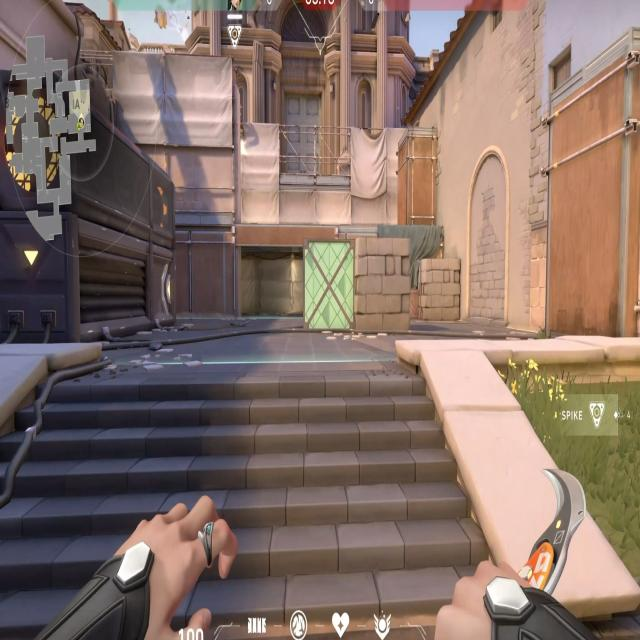A_Heaven_Box: (394, 122, 443, 221)
A_Heaven_Wall: (153, 38, 244, 220)
A_Hell: (226, 218, 312, 322)
A_Site_Box: (295, 235, 418, 334)
